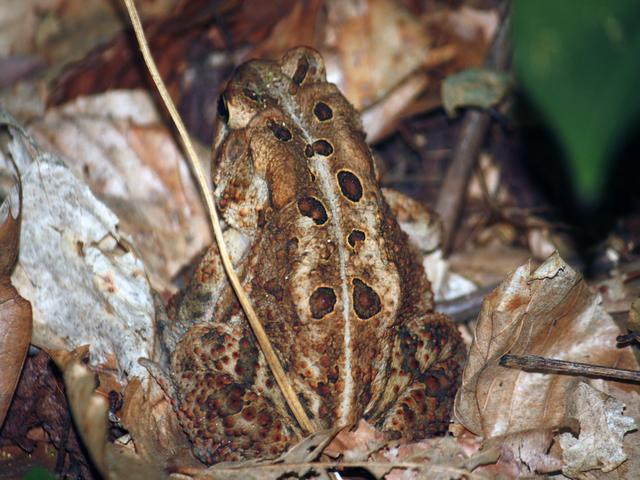frog: (111, 21, 471, 453)
